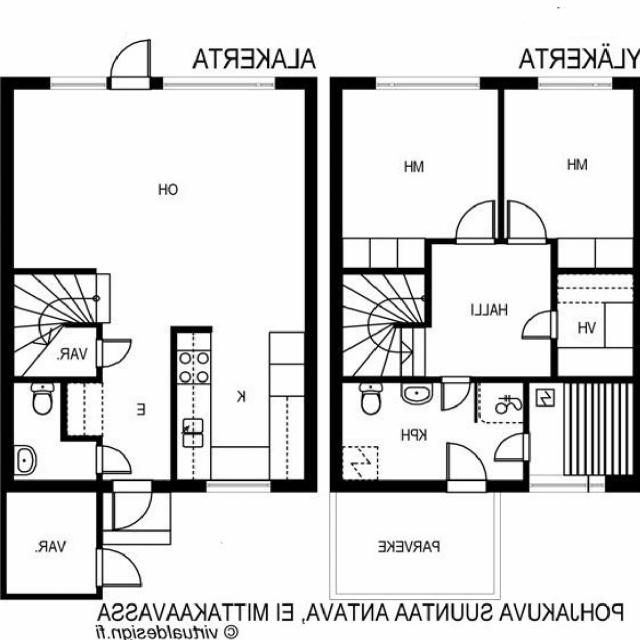door: (448, 443, 487, 493), (111, 40, 150, 89), (113, 480, 152, 529), (95, 550, 142, 588), (457, 202, 495, 245), (509, 202, 546, 245), (96, 339, 132, 367), (442, 376, 470, 411), (96, 447, 132, 474), (522, 311, 558, 338), (495, 434, 530, 461)
